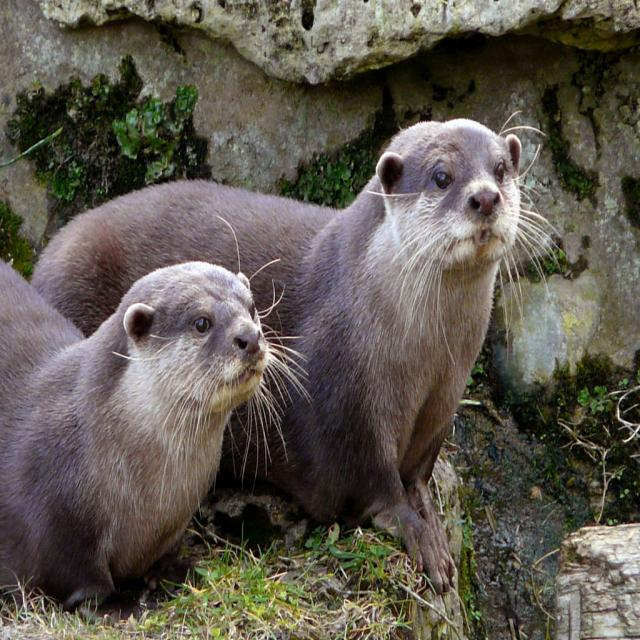otter: (31, 120, 522, 596), (1, 258, 272, 601)
